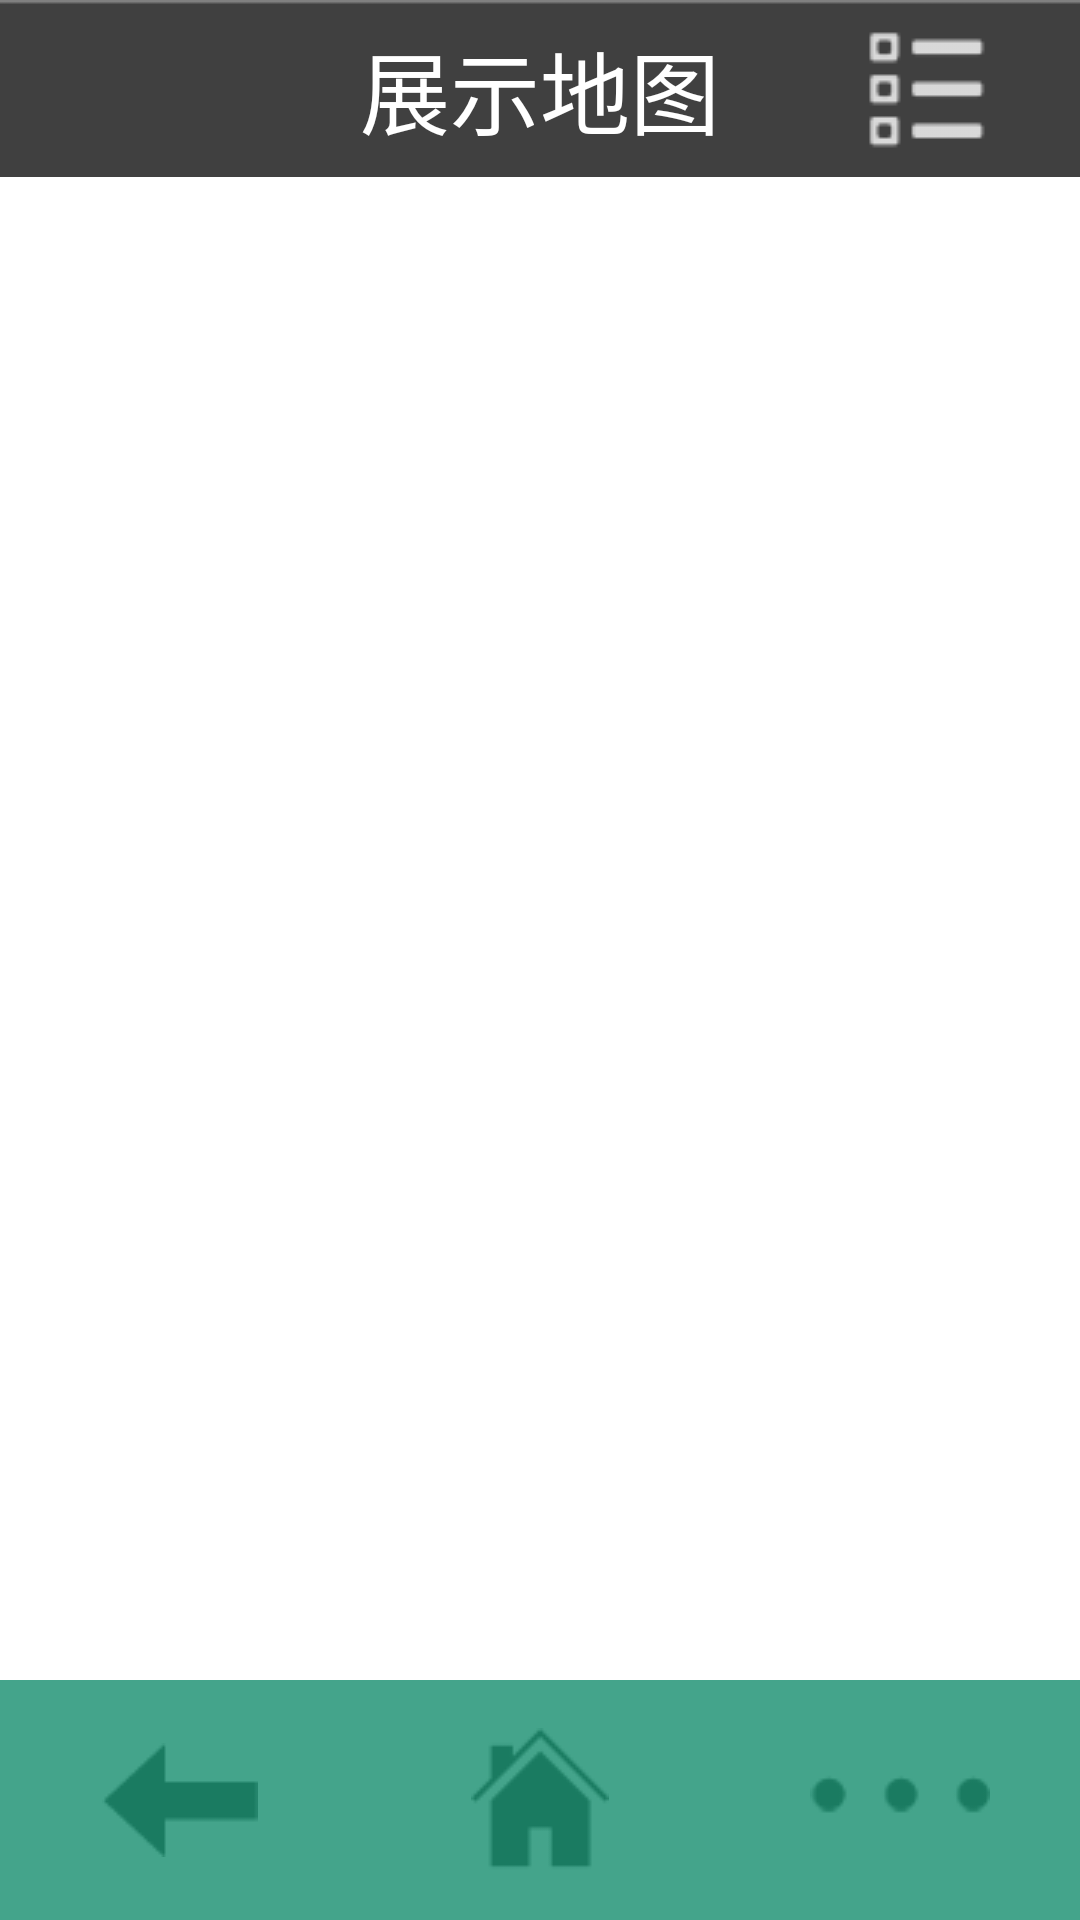

Icon bounding boxes for this 1080×1920 phone screenshot, format (x1, y1, x2, y2):
back: (105, 1746, 258, 1855)
home: (473, 1731, 609, 1866)
top list: (869, 32, 984, 147)
